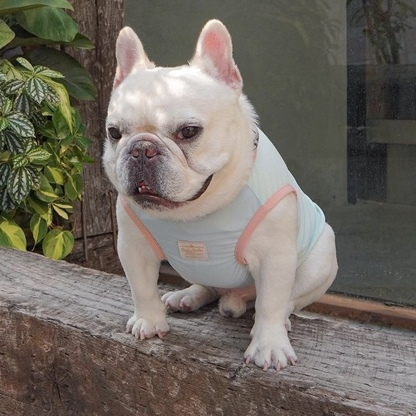bulldog: (101, 15, 343, 375)
